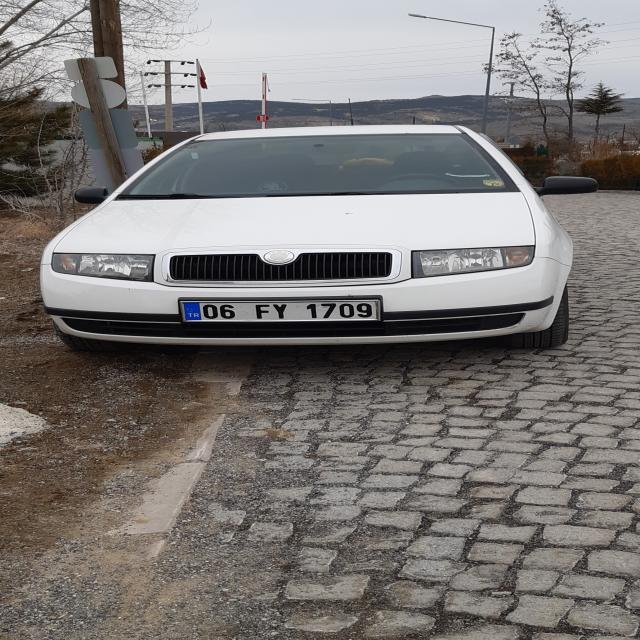plate: (182, 301, 378, 321)
